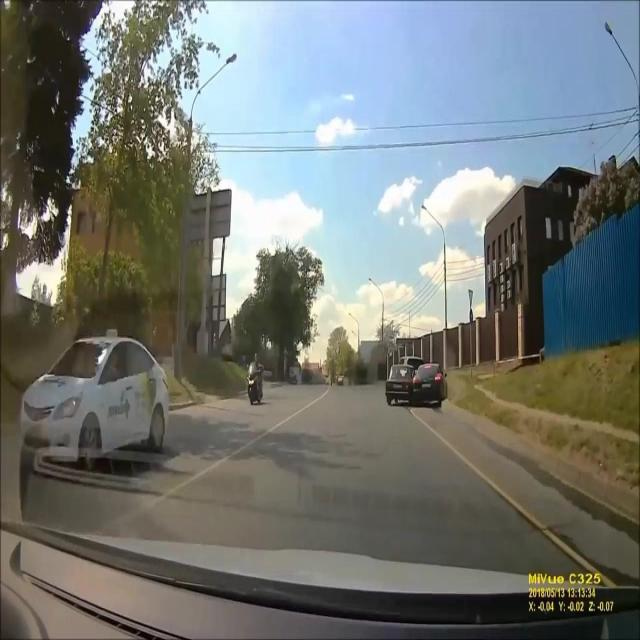moderate: (384, 354, 450, 410)
